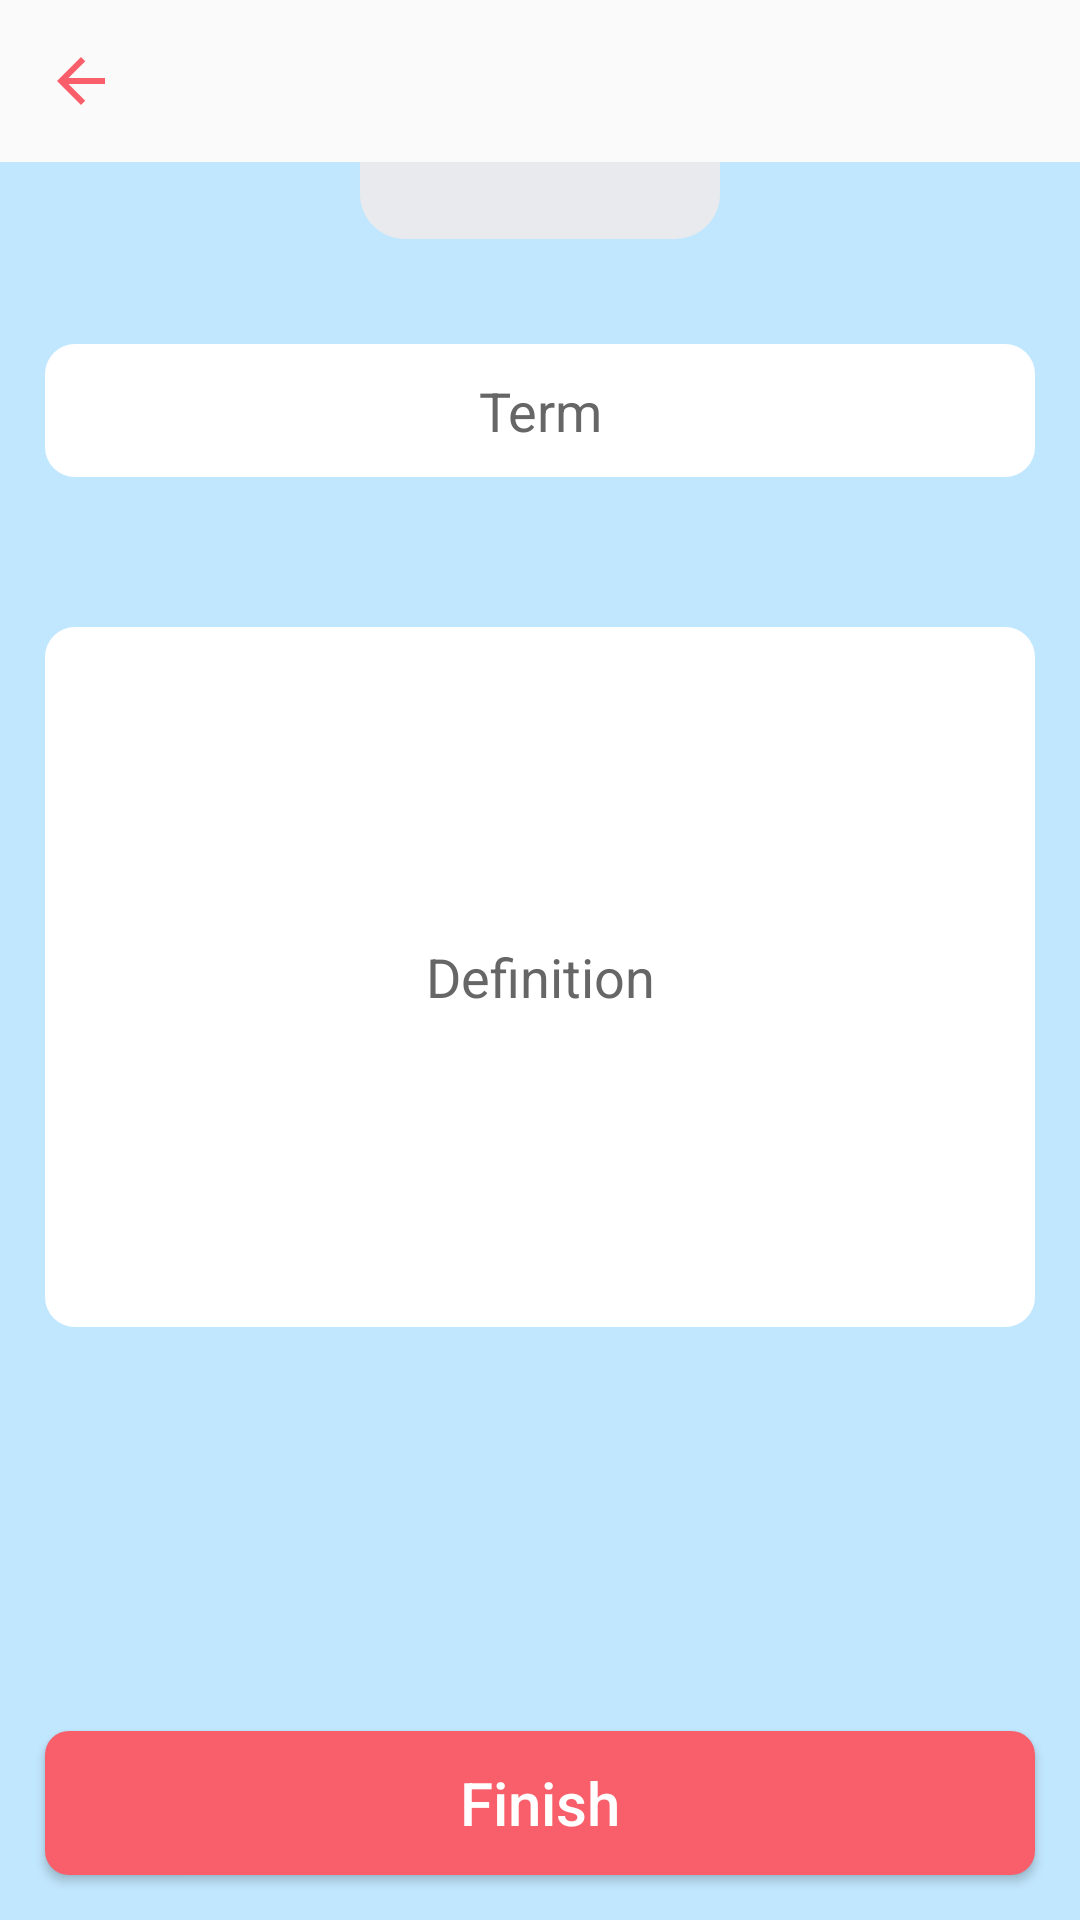

Screen size 1080*1920. Icon name, then its box in pixels as (x1, y1, x2, y2):
back: (57, 57, 105, 105)
